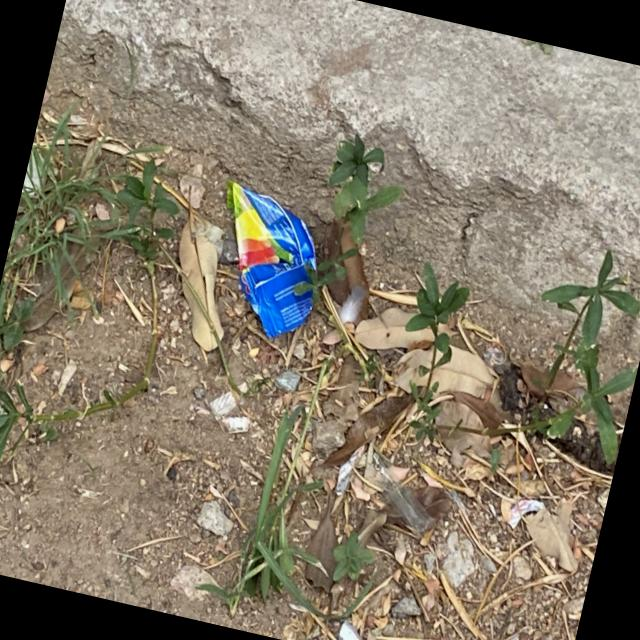giay_goi: (227, 180, 315, 336)
